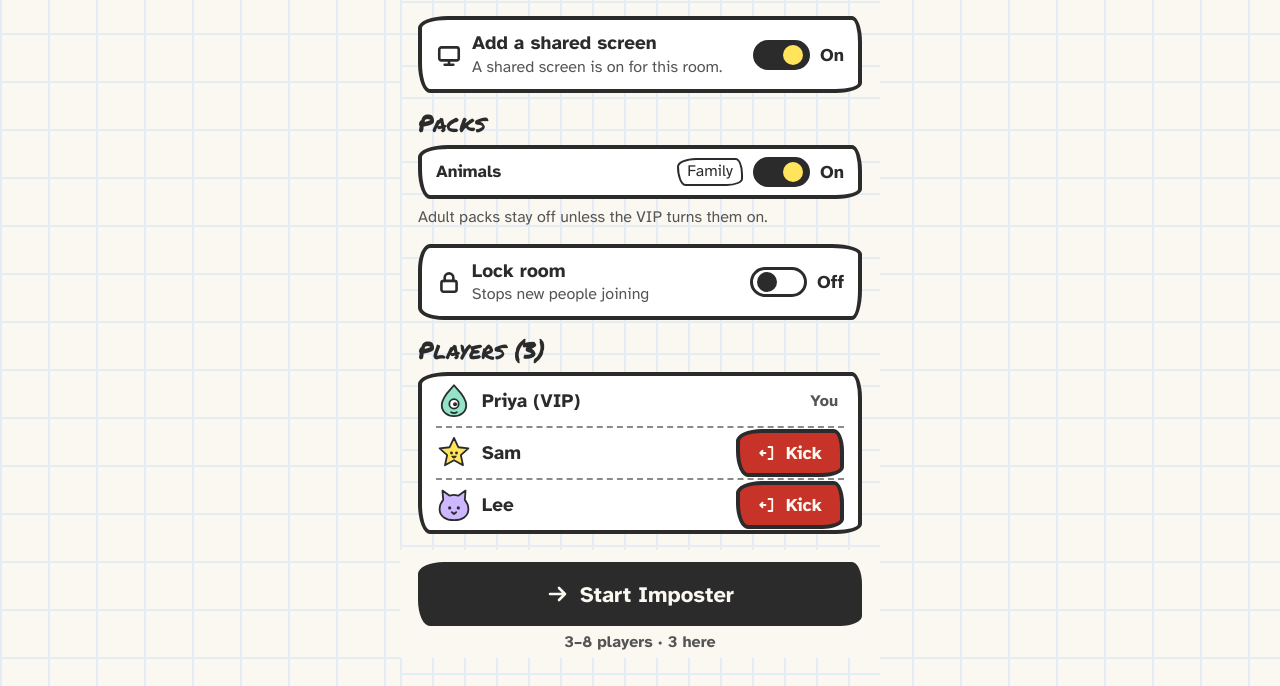
Scenario: PhoneVipControls › asks for confirmation before kicking, and can be cancelled
The width and height of the screenshot is (1280, 686).
(page scrolled)
Step 1. Click the button with aria-label "Kick Sam" → (790, 453), box [736,429,844,477]
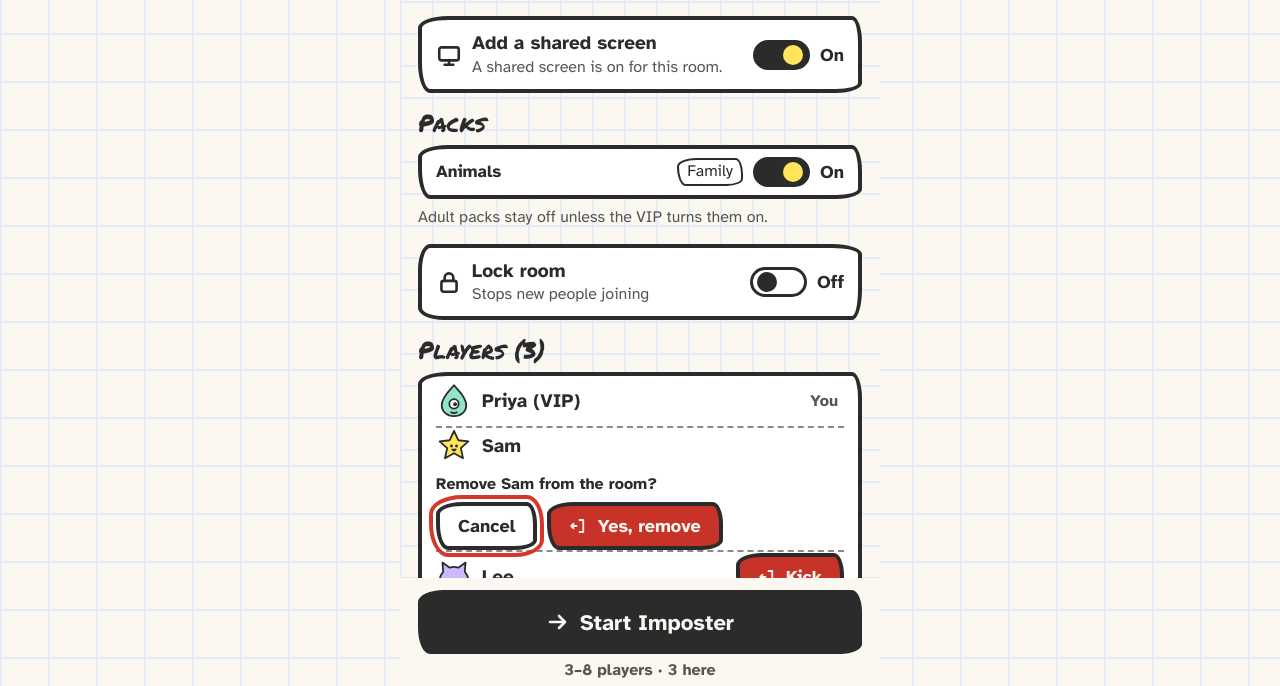
Now the text "Remove Sam from the room?" is shown, box [436,474,657,494]
Step 2. Click the button "Cancel" → (487, 526), box [436,502,537,550]
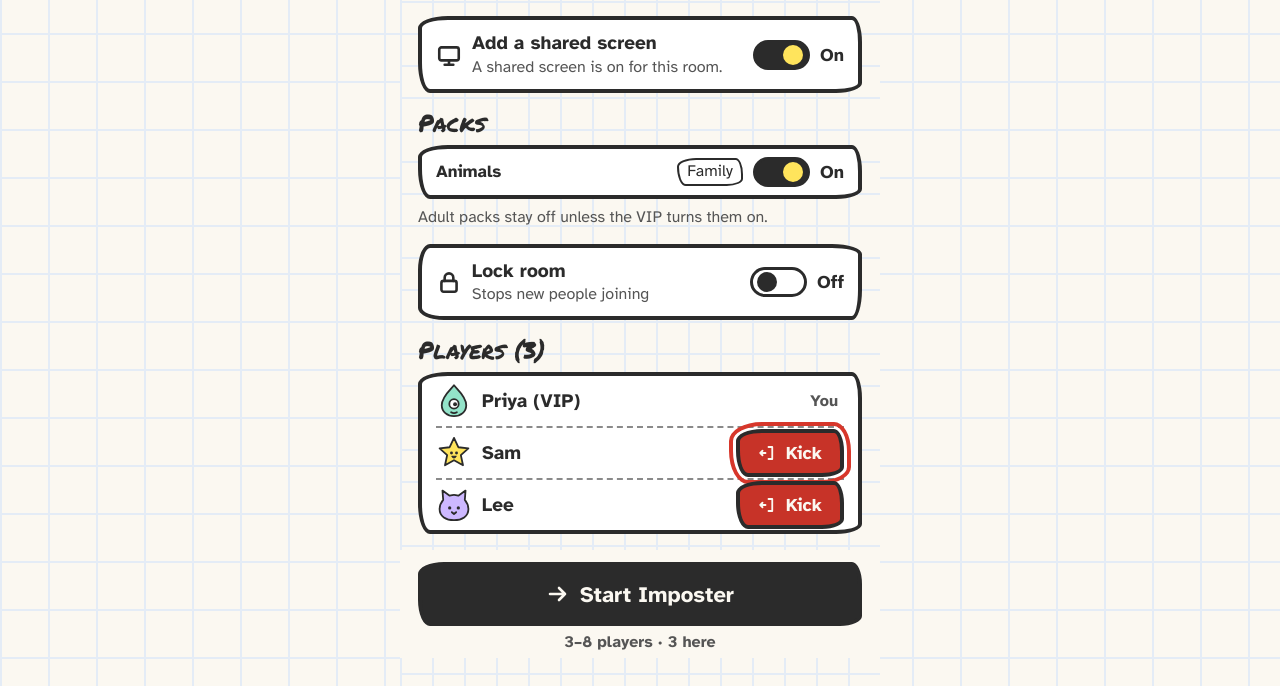
Now the text "Remove Sam from the room?" is gone
Now the button with aria-label "Kick Sam" is shown, box [736,429,844,477]
